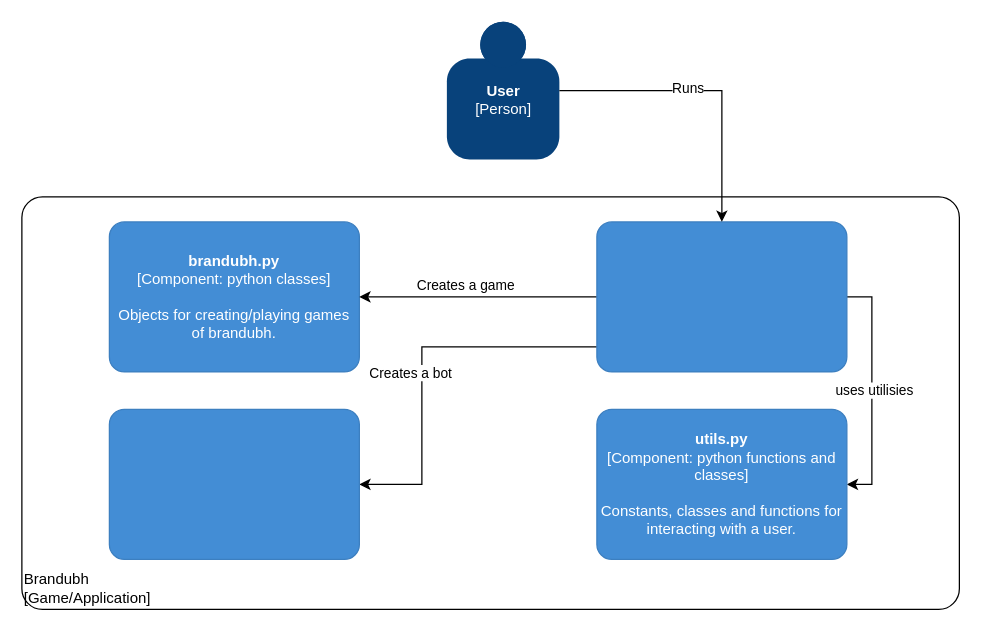
Image size: 981x631. Some labels were removed from this diagram. The centre of each missing label's shape, as x and y in pixels:
"bots [Component: Python classes] Defines various bots that can play brandubh." goes at (x=233, y=483).
"play_brandubh.py [Component: python program] Manages game, user and bot objects." goes at (x=721, y=296).
